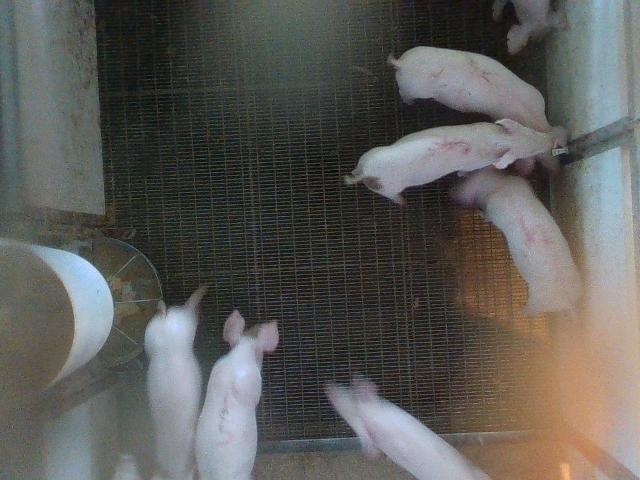pig-4: (454, 166, 582, 314), (345, 119, 554, 204)
pig-5: (195, 310, 279, 479)
